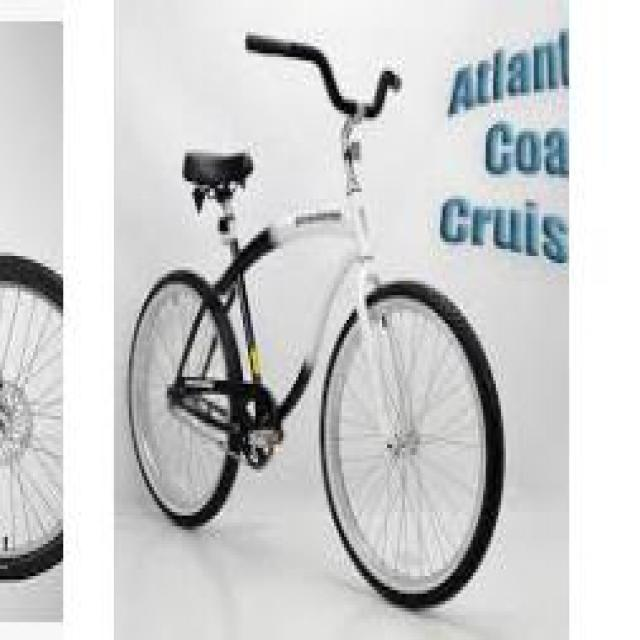bicycle: (120, 40, 505, 602)
